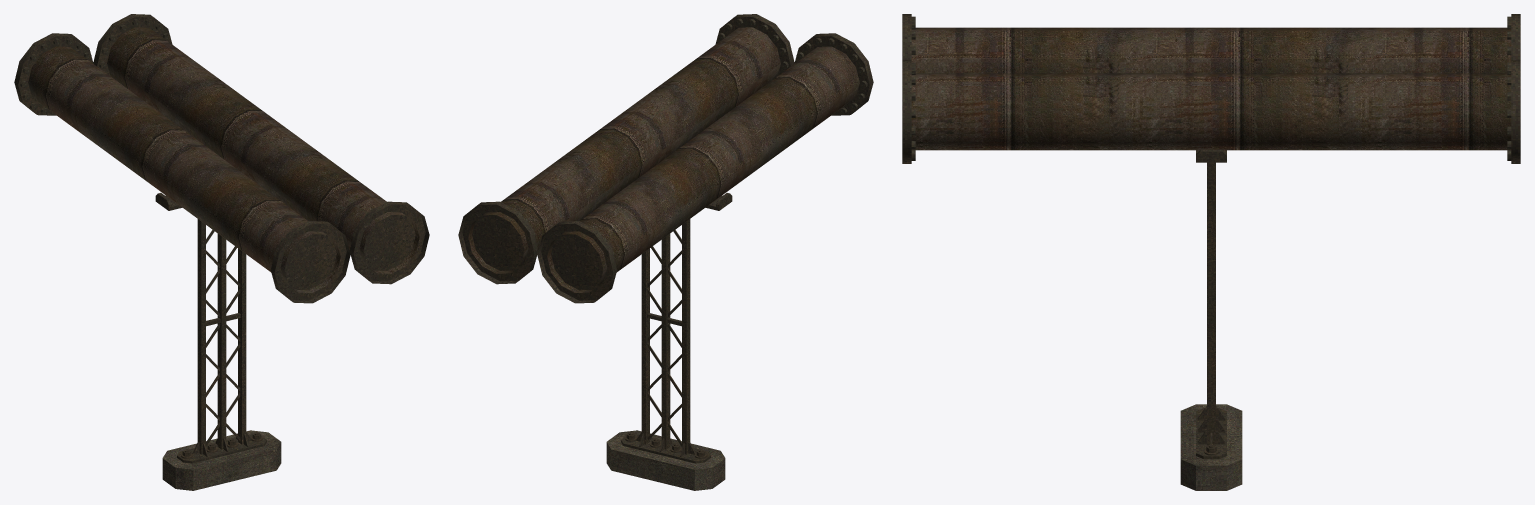
Rendered from pipe_cx_5.glb.
The picture shows the model from 3 angles, left to right: view 1: azimuth 30°, elevation 25°; view 2: azimuth 150°, elevation 25°; view 3: azimuth 270°, elevation 25°; orthographic projection. The views are drawn at different scales.
Visible parts, largest first — view 1: pipe_cx_5; view 2: pipe_cx_5; view 3: pipe_cx_5.
Boxes of the visible parts, x1,y1,x2,y2 form: pipe_cx_5: (14, 14, 429, 490); pipe_cx_5: (458, 14, 873, 490); pipe_cx_5: (902, 14, 1520, 490).
Bounding box in the file's own units: 1.38 × 2.99 × 4.
3 materials, 3 textured.
